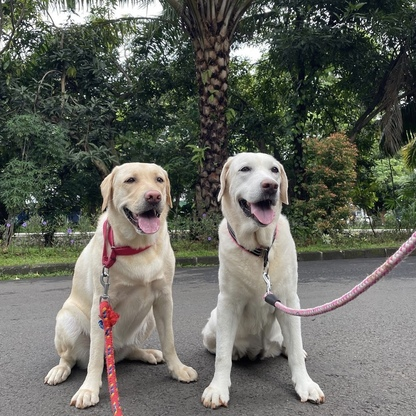labrado: (41, 159, 202, 413), (200, 151, 329, 411)
